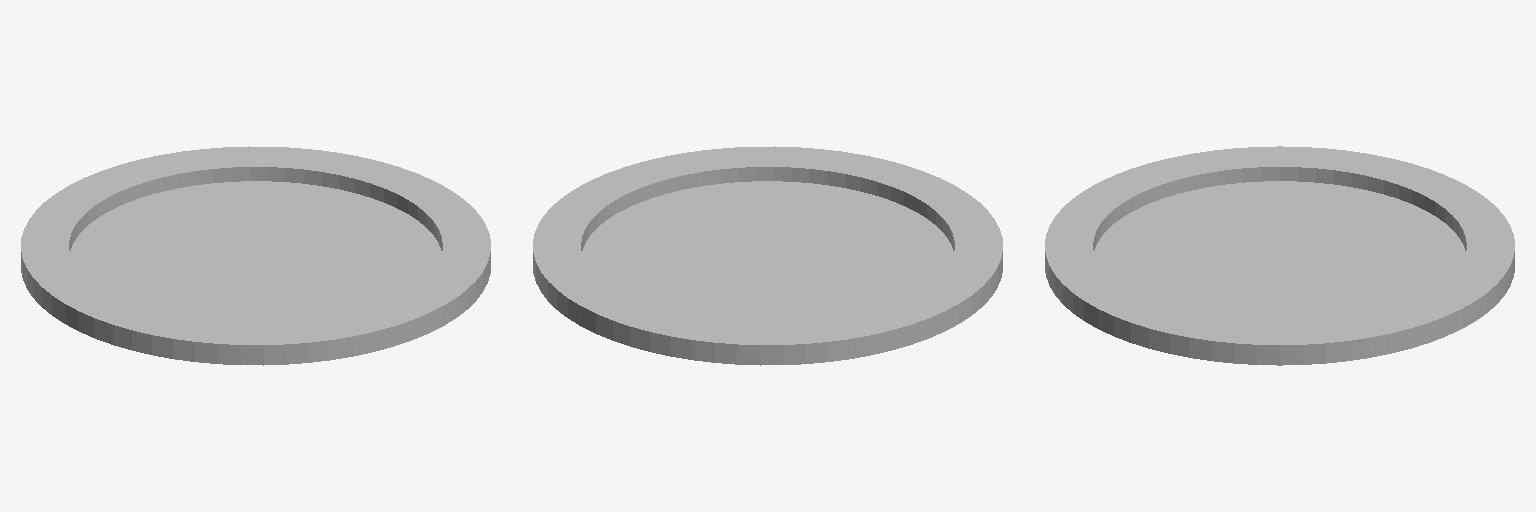
Rendered from marker.obj.
3 renders of one model, left to right at view 1: azimuth 30°, elevation 25°; view 2: azimuth 150°, elevation 25°; view 3: azimuth 270°, elevation 25°, orthographic.
Parts seen in each view (by area): view 1: Circle.001_Circle.004; view 2: Circle.001_Circle.004; view 3: Circle.001_Circle.004.
Part boxes in pixels (x1,y1,x2,y2): Circle.001_Circle.004: (21, 146, 490, 365); Circle.001_Circle.004: (533, 146, 1002, 365); Circle.001_Circle.004: (1045, 146, 1514, 365).
Size of the model in its own units: 1.54 by 0.0734 by 1.54.